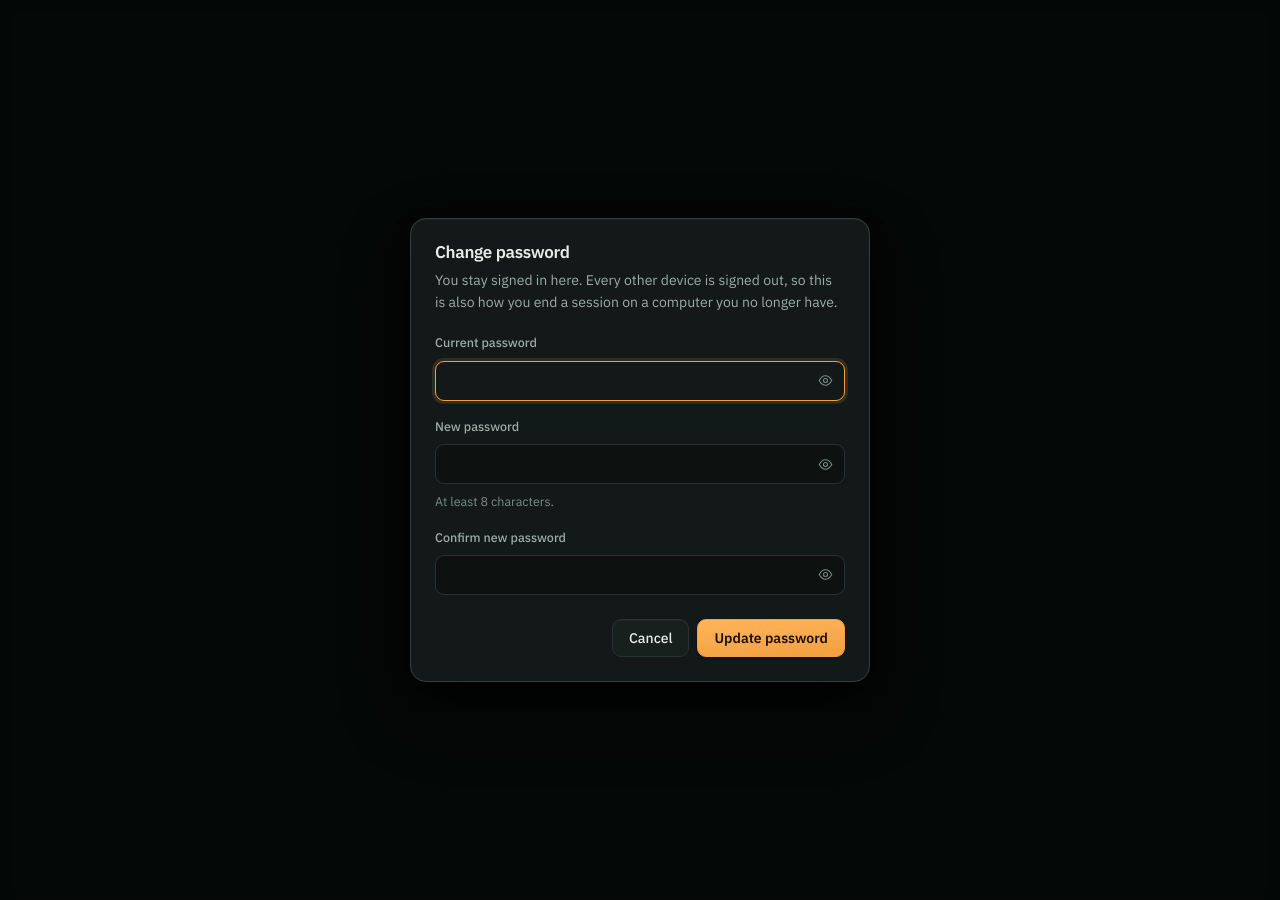
Test case: ChangePasswordDialog › says that the other devices were signed out
The width and height of the screenshot is (1280, 900).
Type "correct-horse-battery" into the password field labelled "Current password" at (640, 381), box [435,361,845,401]
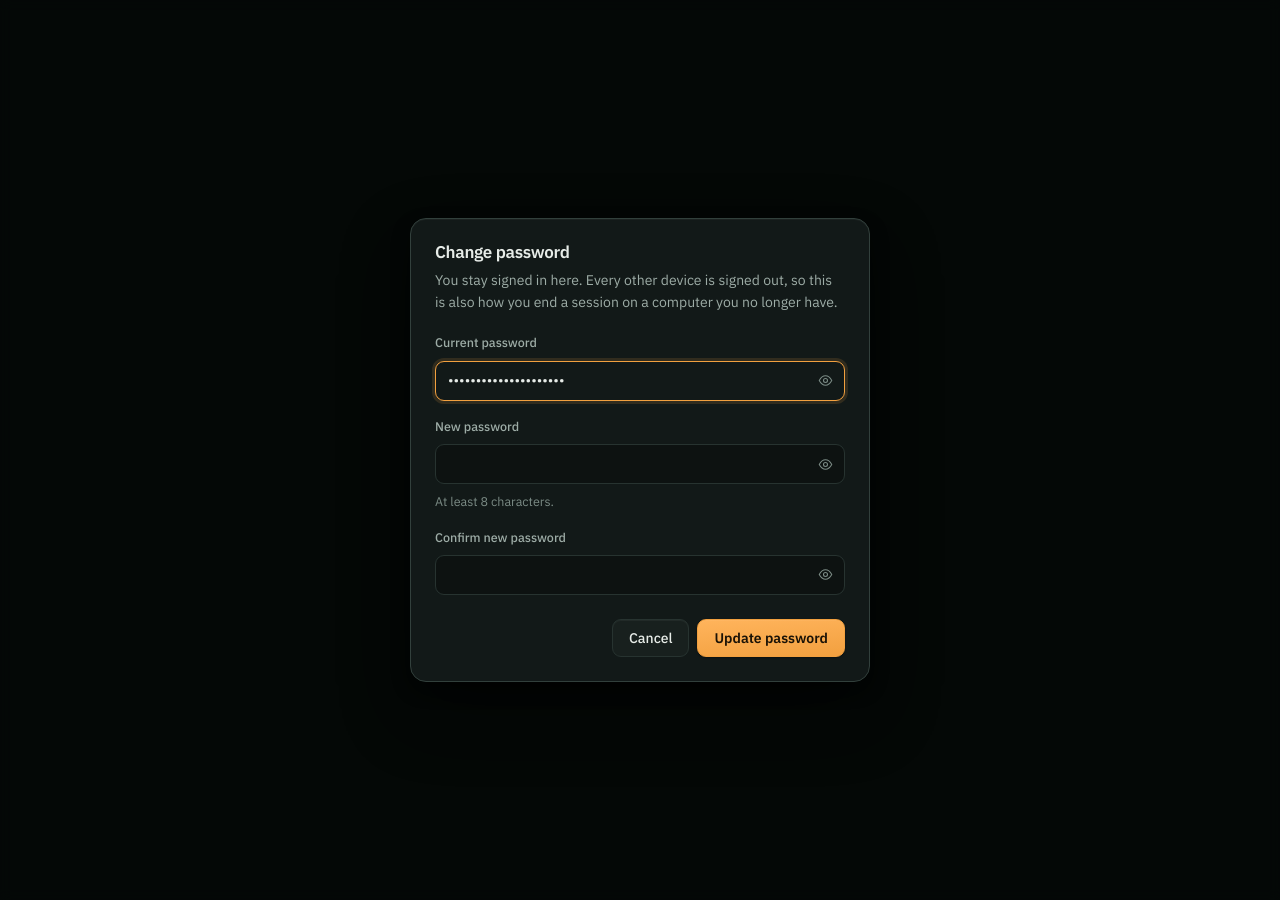
Type "an-entirely-new-passphrase" into the password field labelled "New password" at (640, 464), box [435,444,845,484]
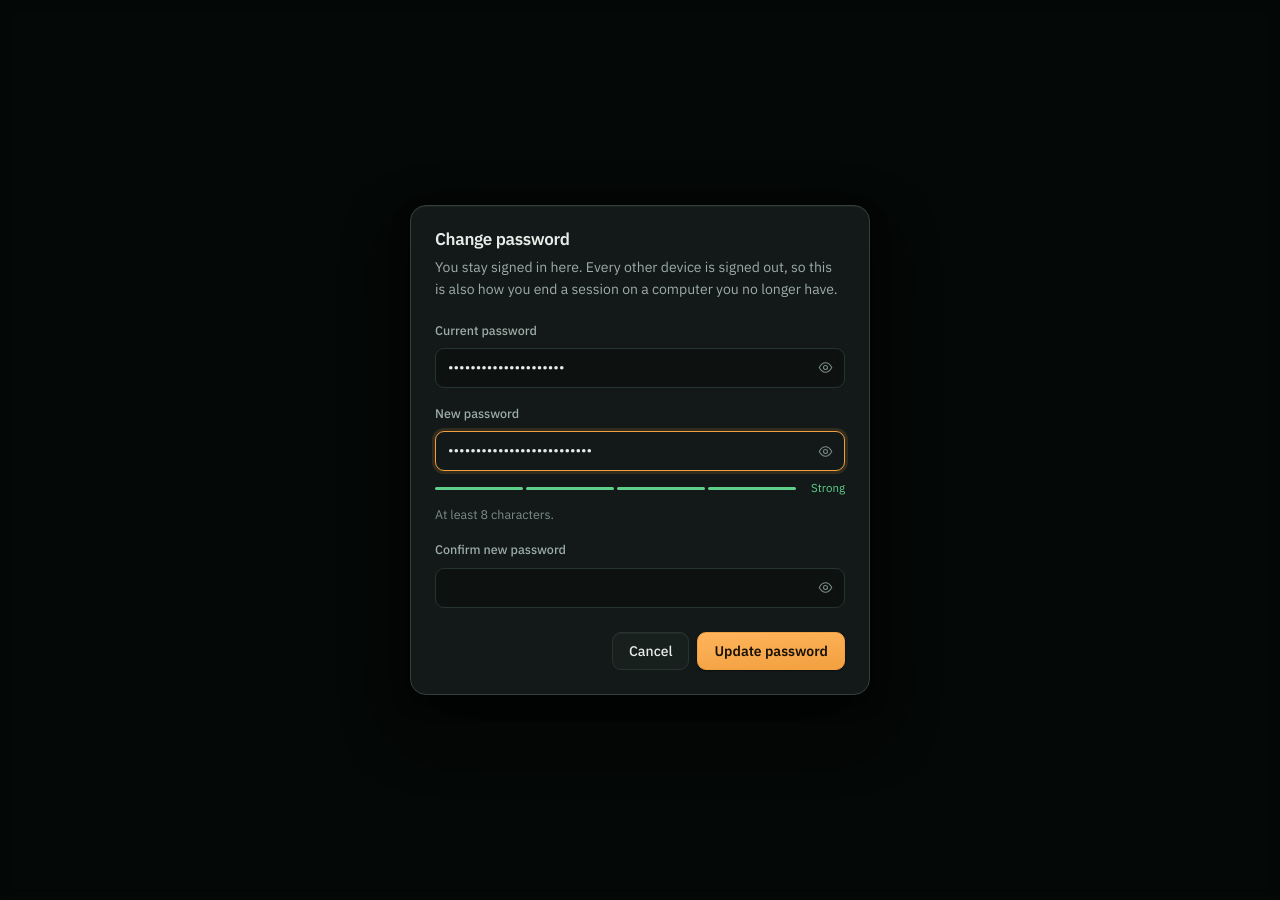
Type "an-entirely-new-passphrase" into the password field labelled "Confirm new password" at (640, 588), box [435,568,845,608]
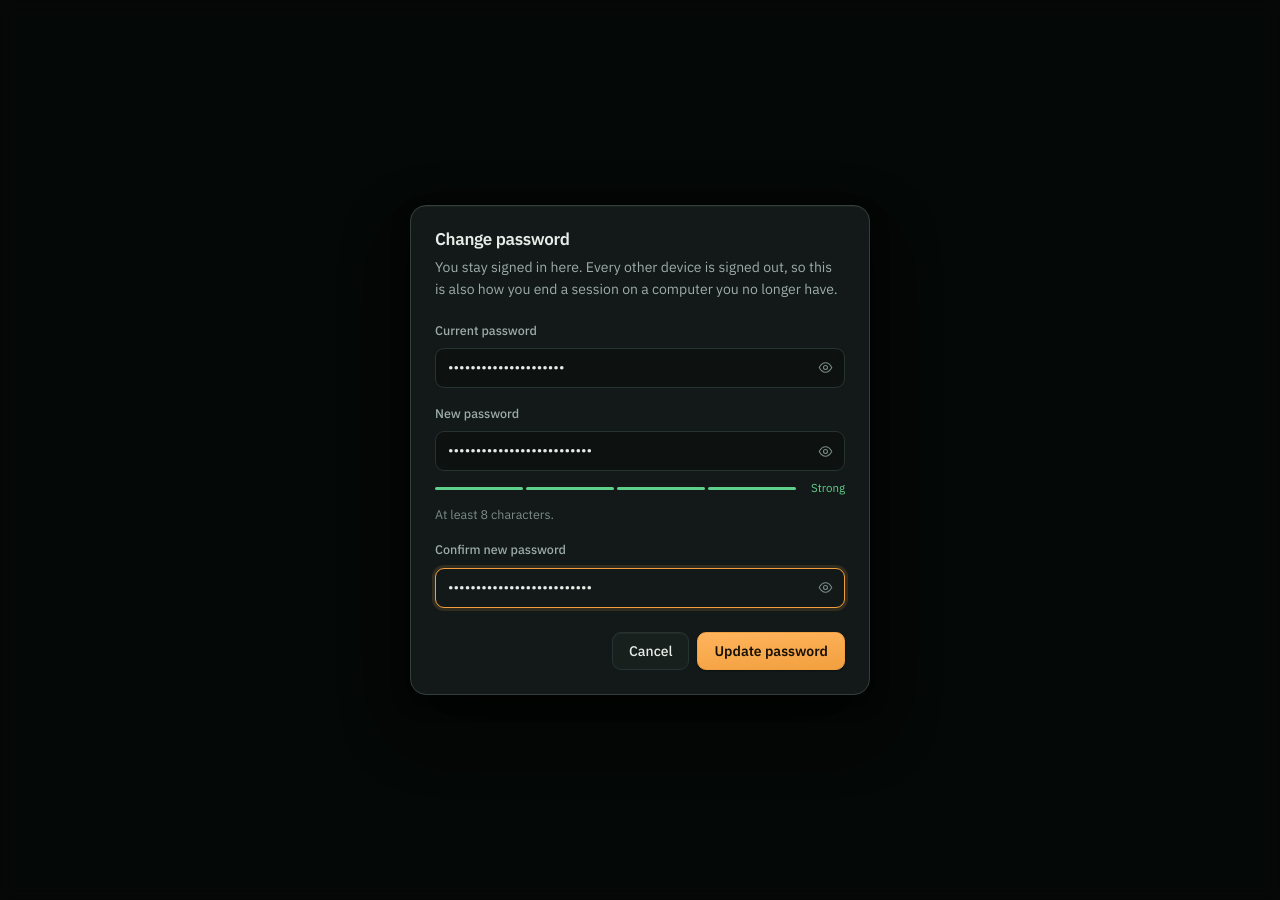
Click the button "Update password" at (771, 651), box [698,632,845,670]
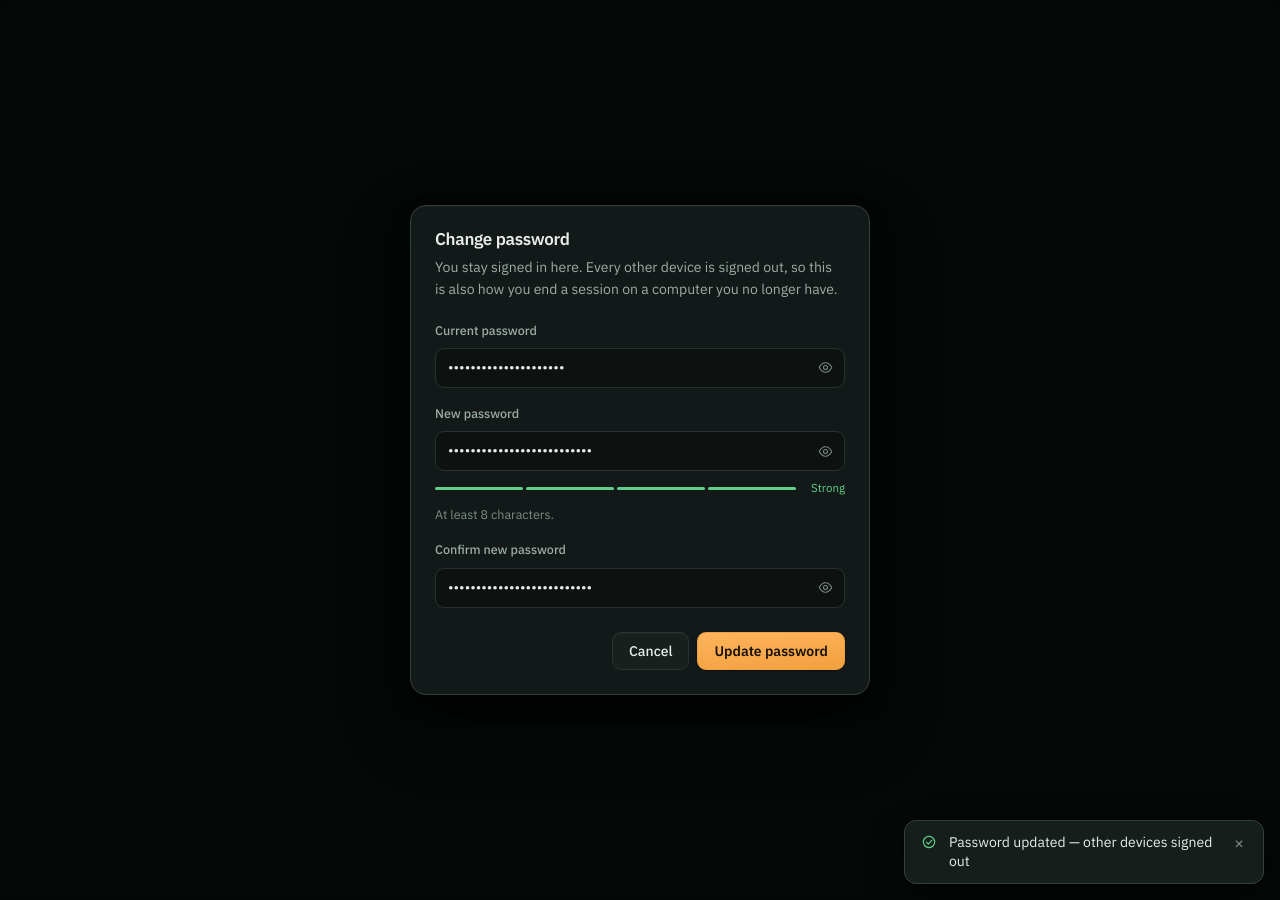
Result: the text "Password updated — other devices signed out" is shown at [949,833,1215,871]
